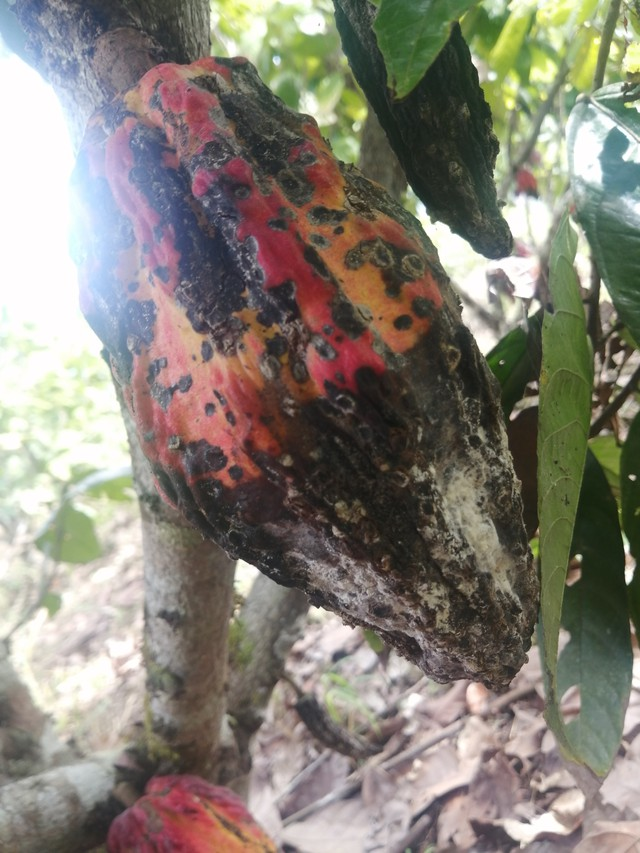moniliophthora roreri: (54, 46, 563, 705)
